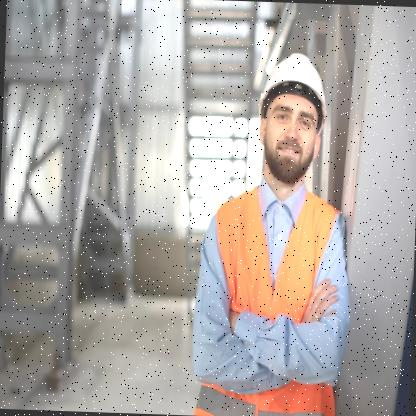capacete: (252, 46, 331, 188)
colete_refletivo: (185, 177, 361, 415)
